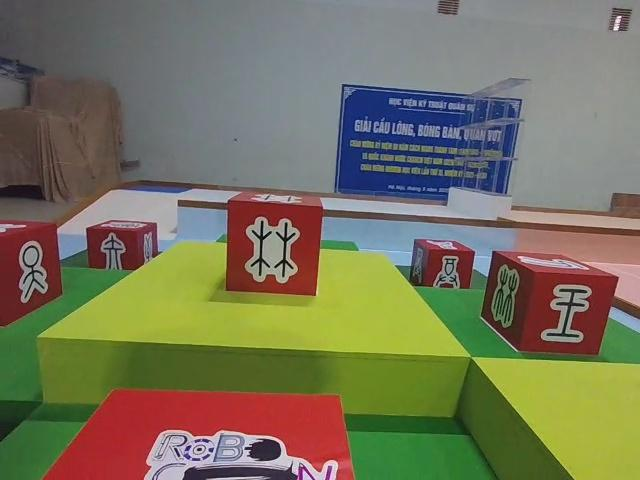R1: (43, 386, 359, 480)
R2 Fake: (482, 248, 619, 357), (85, 218, 158, 275)
R2 Real: (225, 191, 323, 301), (0, 213, 64, 328), (405, 236, 473, 295)
